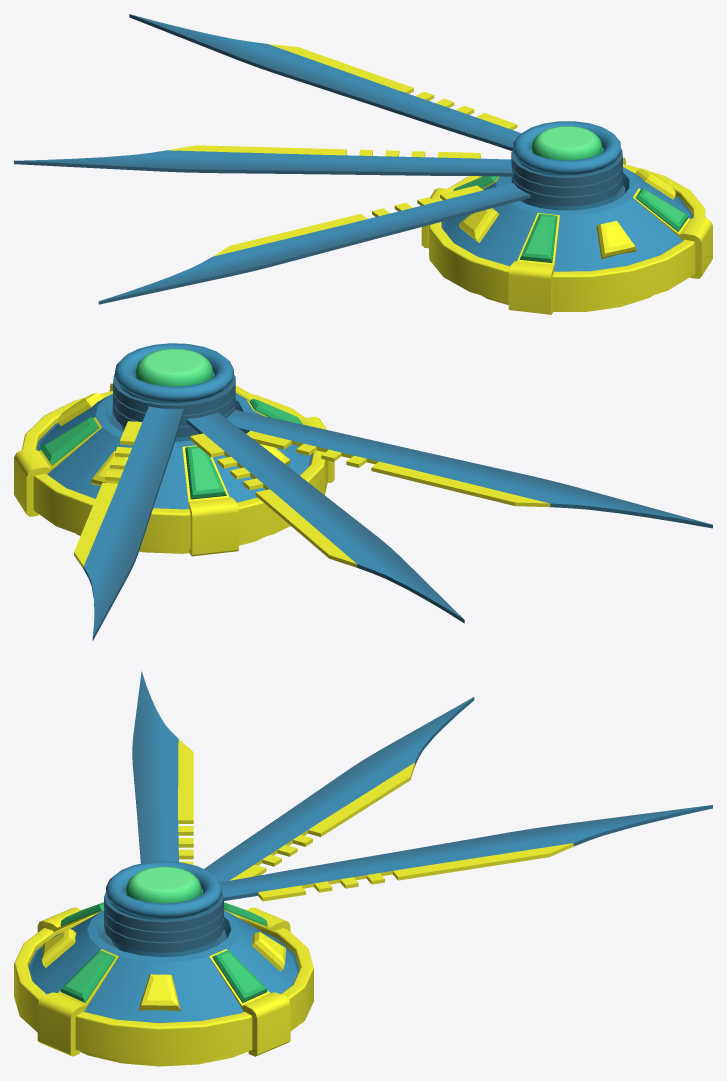
File: island2-knife3.fbx
3 renders of one model, top to bottom at view 1: azimuth 30°, elevation 25°; view 2: azimuth 150°, elevation 25°; view 3: azimuth 270°, elevation 25°, orthographic. The views are drawn at different scales.
Parts seen in each view (by area): view 1: islnd2-knife3, islnd2-knife3.02, islnd2-knife3.03, islnd2-knife3.01; view 2: islnd2-knife3, islnd2-knife3.01, islnd2-knife3.02, islnd2-knife3.03; view 3: islnd2-knife3, islnd2-knife3.03, islnd2-knife3.02, islnd2-knife3.01.
Boxes of the visible parts, x1,y1,x2,y2 form: islnd2-knife3: [421, 121, 712, 314]; islnd2-knife3.02: [14, 145, 622, 196]; islnd2-knife3.03: [129, 14, 622, 186]; islnd2-knife3.01: [98, 176, 622, 304]; islnd2-knife3: [14, 343, 334, 556]; islnd2-knife3.01: [112, 400, 712, 528]; islnd2-knife3.02: [113, 384, 464, 623]; islnd2-knife3.03: [74, 374, 235, 640]; islnd2-knife3: [14, 861, 313, 1066]; islnd2-knife3.03: [104, 805, 712, 931]; islnd2-knife3.02: [104, 697, 474, 942]; islnd2-knife3.01: [104, 671, 223, 952].
Bounding box in the file's own units: 9.75 × 1.97 × 9.17.
1 material, 1 textured.
